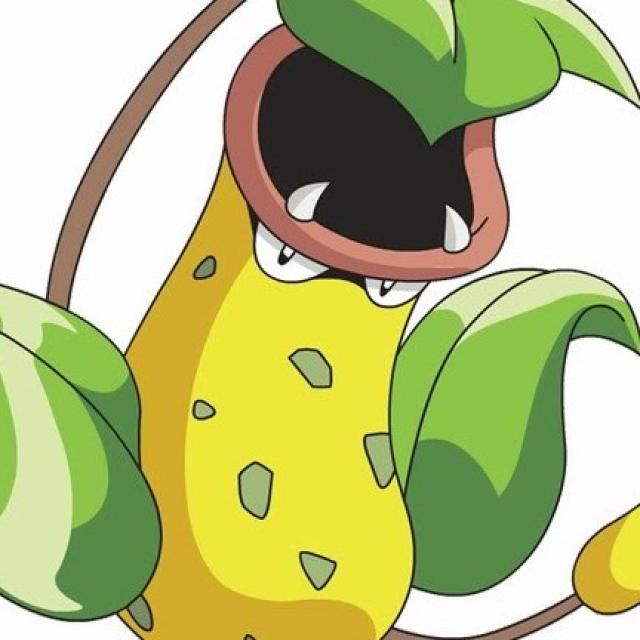Victreebel: (86, 16, 528, 640)
